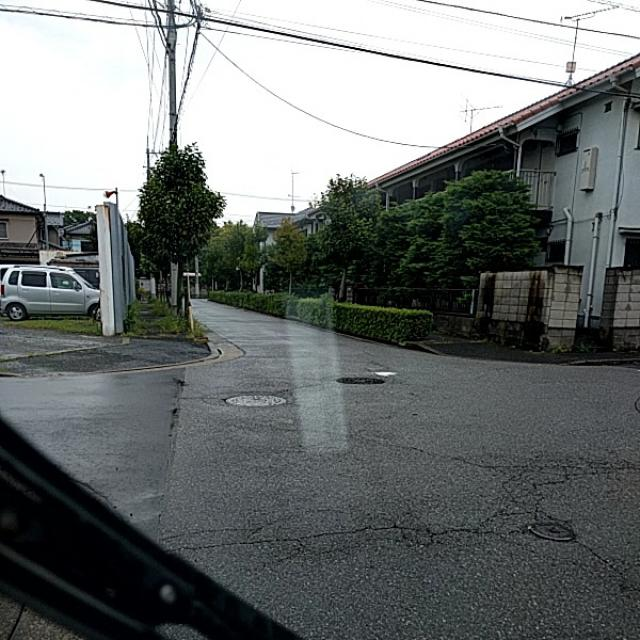pothole: (267, 504, 547, 562)
